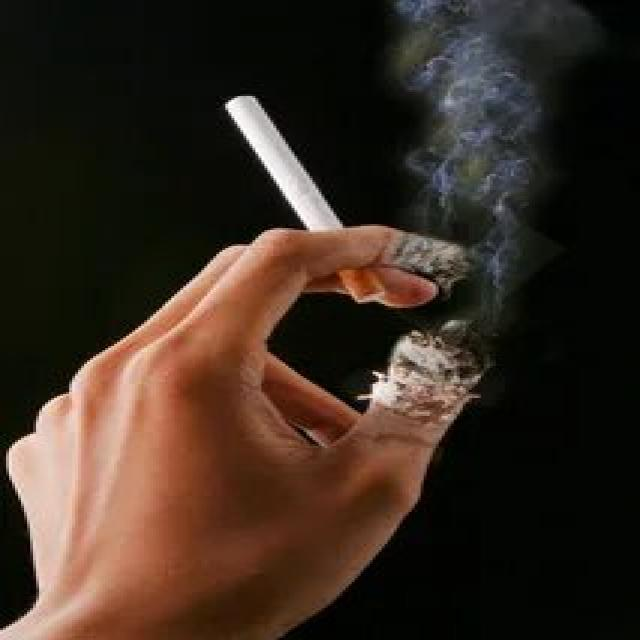cigarette: (219, 90, 403, 318)
